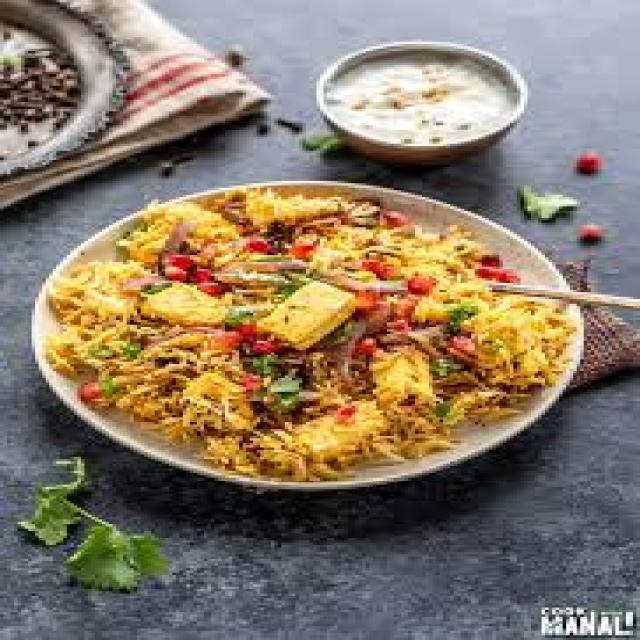Wet Waste: (62, 182, 586, 495)
